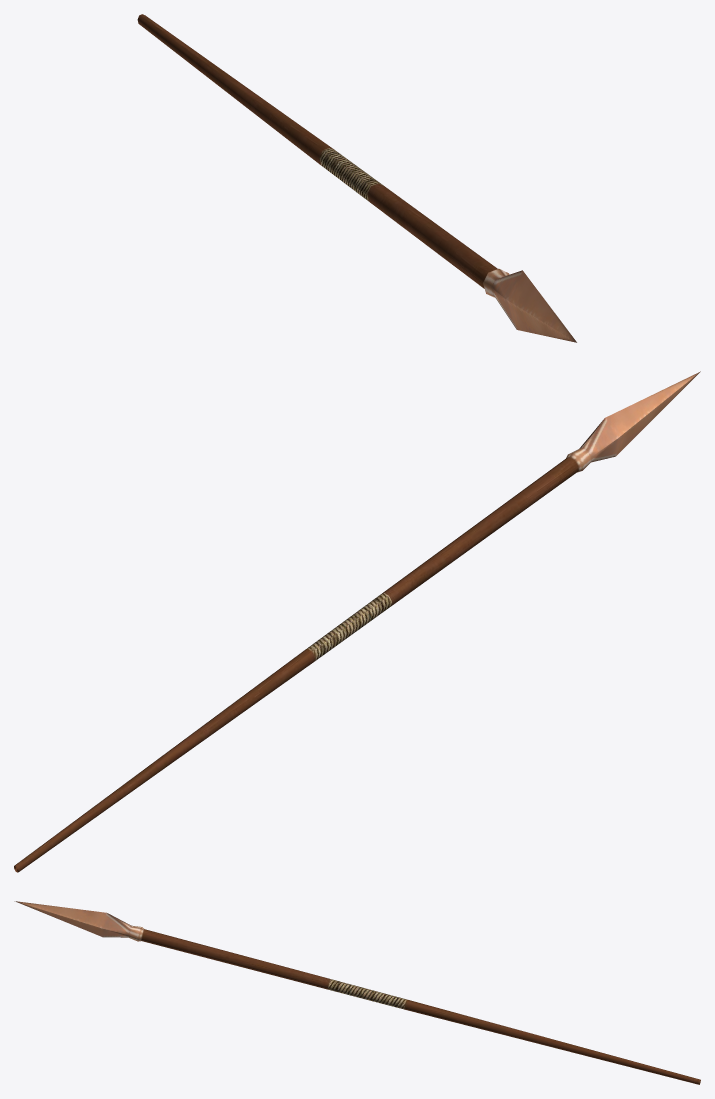
The model's file is weapon-base.glb.
3 views of the same model, one above another, from view 1: azimuth 30°, elevation 25°; view 2: azimuth 150°, elevation 25°; view 3: azimuth 270°, elevation 25° (orthographic). The views are drawn at different scales.
Bounding box in the file's own units: 0.4975 × 0.4578 × 2.32.
Materials: 1 (1 with a texture image).
